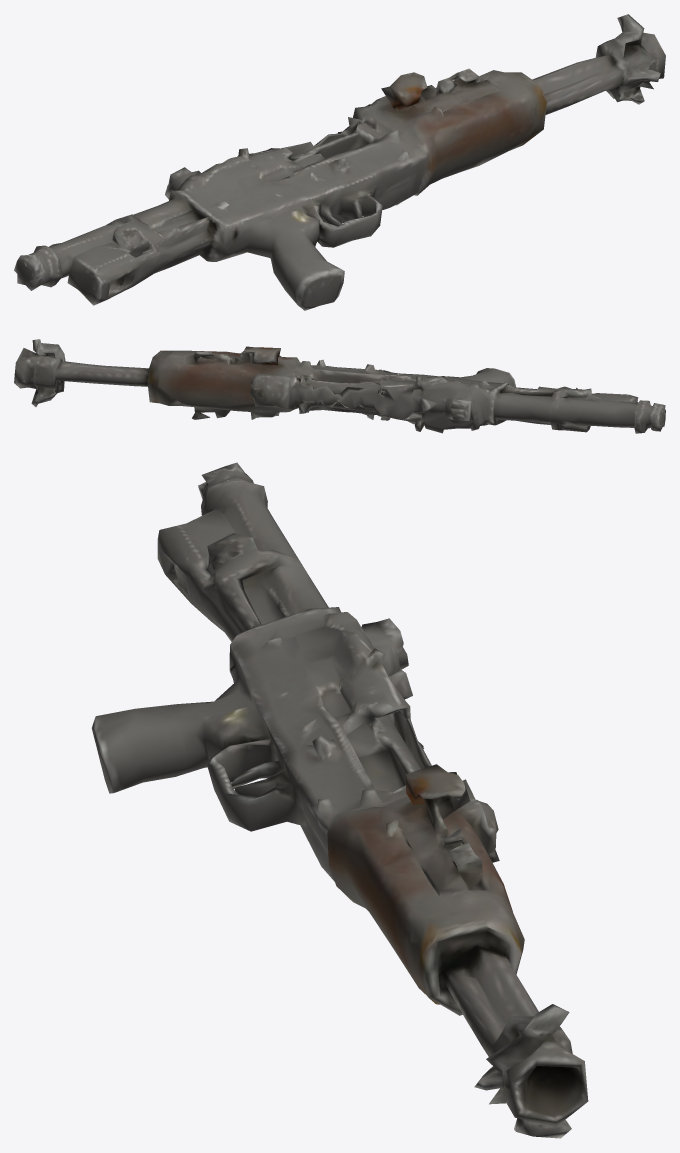
File: gun_body_rifle.44dcfa0c19.glb
3 renders of one model, top to bottom at view 1: azimuth 30°, elevation 25°; view 2: azimuth 150°, elevation 25°; view 3: azimuth 270°, elevation 25°, orthographic. The views are drawn at different scales.
Parts seen in each view (by area): view 1: gun_body_rifle; view 2: gun_body_rifle; view 3: gun_body_rifle.
Boxes of the visible parts, bbox=[...] form: gun_body_rifle: bbox=[14, 14, 665, 310]; gun_body_rifle: bbox=[14, 339, 665, 433]; gun_body_rifle: bbox=[91, 462, 588, 1138].
Size of the model in its own units: 0.45 by 0.0653 by 0.1709.
1 material, 1 textured.
